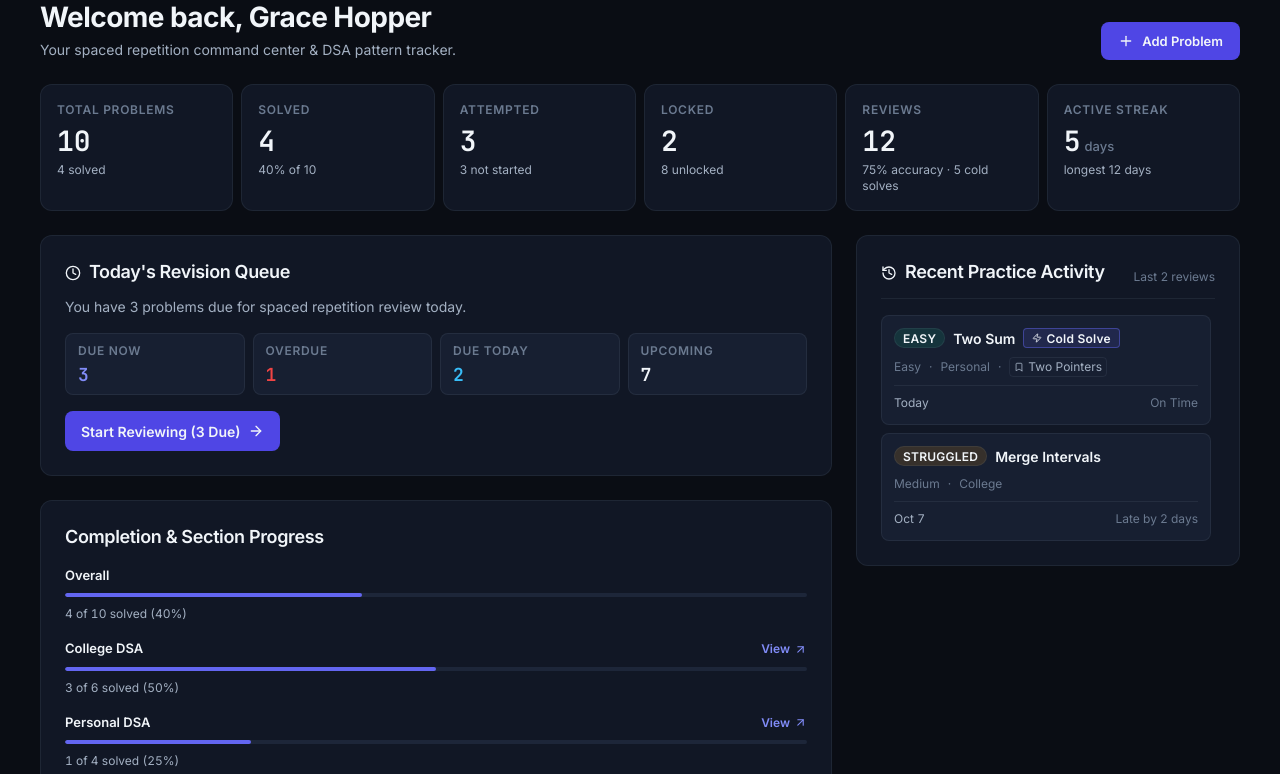
Test: DashboardPage (Phase 5) › add problem action › opens the Add Problem modal in the Personal section from the header
Click the button "Add Problem" at (1171, 41), box [1101,22,1240,60]
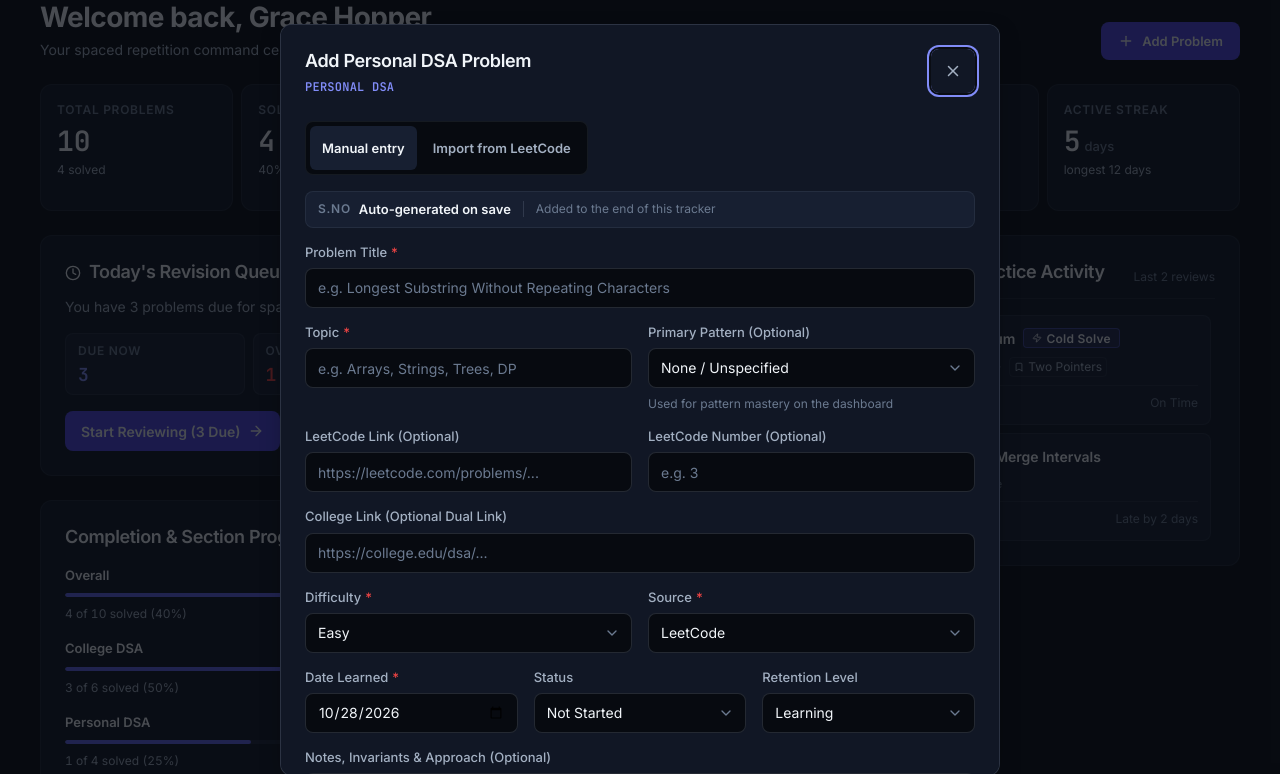
Expected: the heading "Add Personal DSA Problem" is shown, [305,49,531,73]
Expected: the text "Auto-generated on save" is shown, [359,200,511,218]
